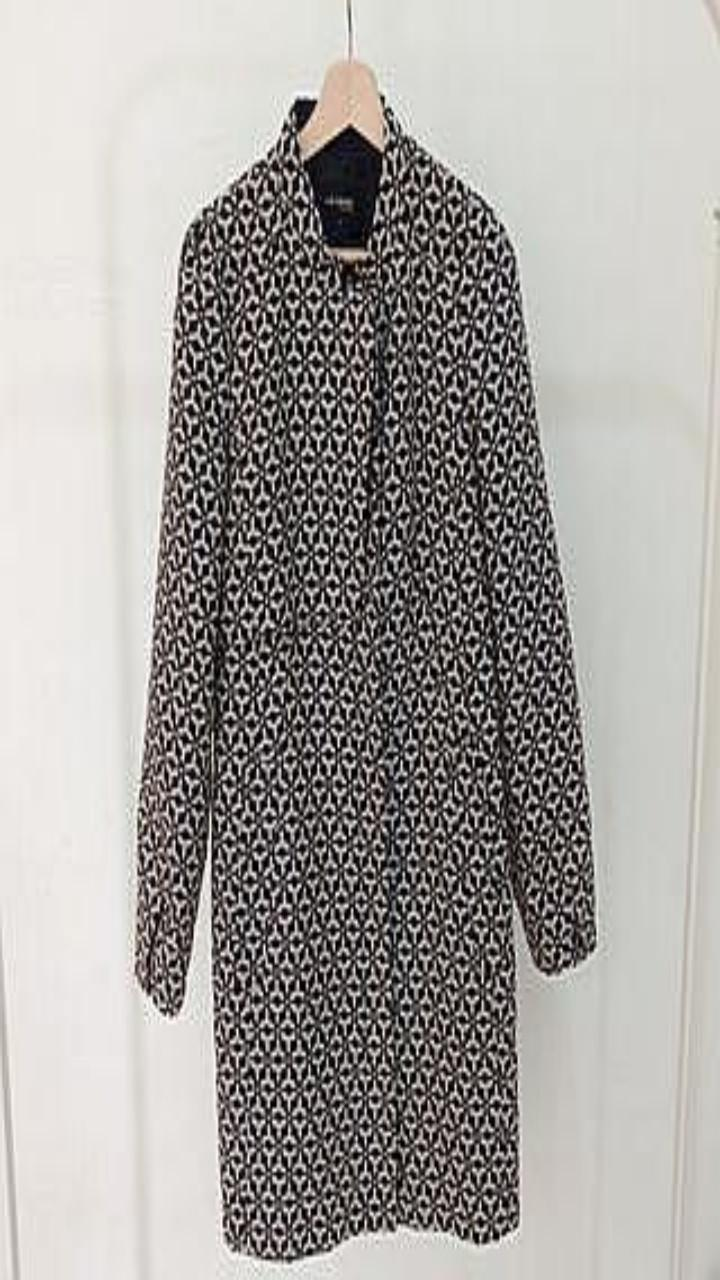Coat: (135, 93, 596, 1259)
